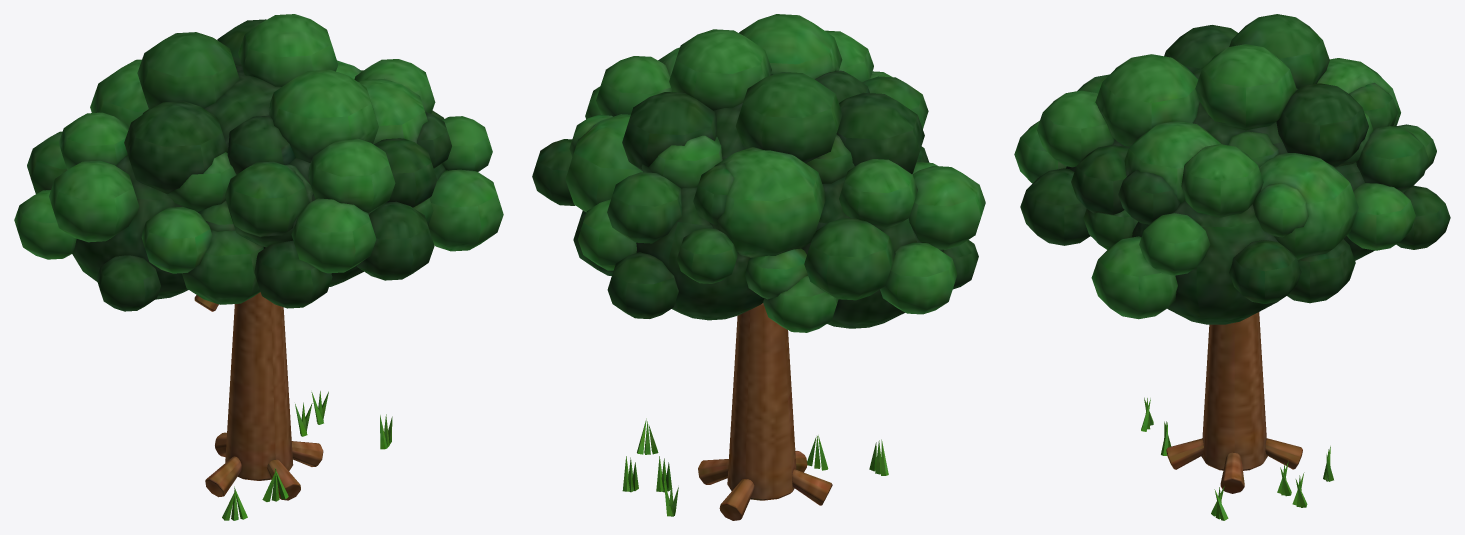
The model's file is loquat_tree.glb.
3 renders of one model, left to right at view 1: azimuth 30°, elevation 25°; view 2: azimuth 150°, elevation 25°; view 3: azimuth 270°, elevation 25°, orthographic. The views are drawn at different scales.
Parts seen in each view (by area): view 1: crown, loquat_tree; view 2: crown, loquat_tree; view 3: crown, loquat_tree.
Part boxes in pixels (x1,y1,x2,y2): crown: (14,14,503,311); loquat_tree: (194,292,392,520); crown: (532,14,985,332); loquat_tree: (622,303,888,520); crown: (1014,14,1450,324); loquat_tree: (1141,312,1333,520).
Bounding box in the file's own units: 1.21 × 1.23 × 1.12.
1 material, 1 textured.
